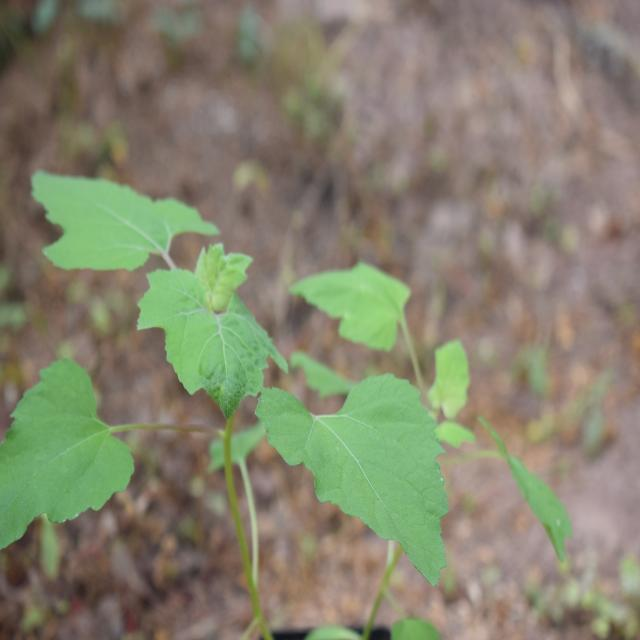cocklebur: (26, 181, 456, 543)
